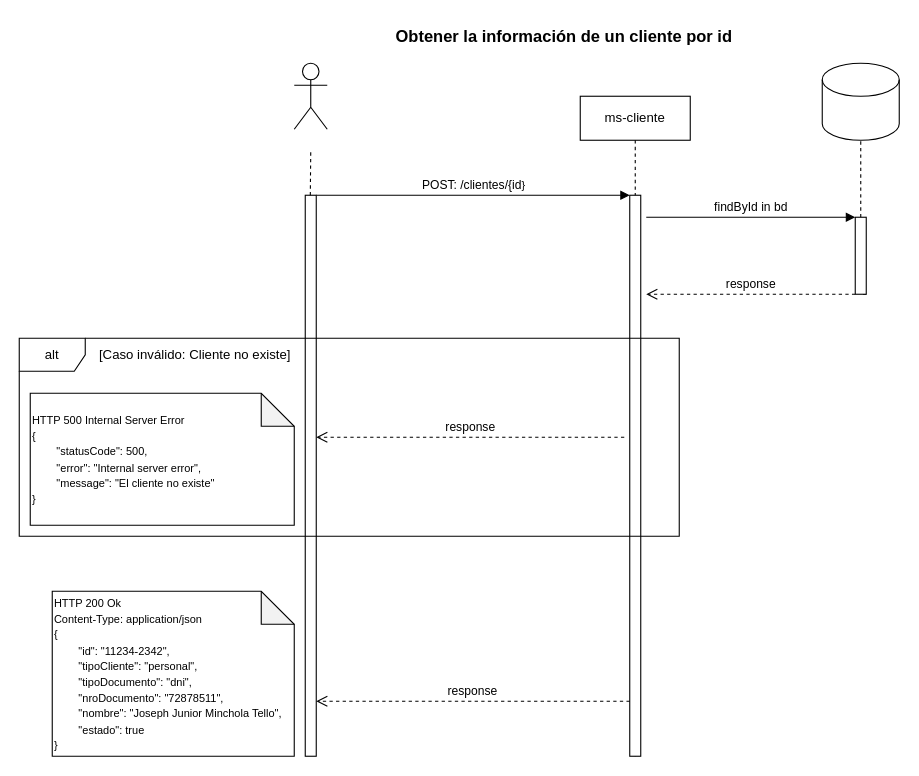
This 919x776 diagram has some shape labels left out. Each missing label, with the centre of its shape:
Cliente: the point at 310,95
MongoDb: the point at 860,101
